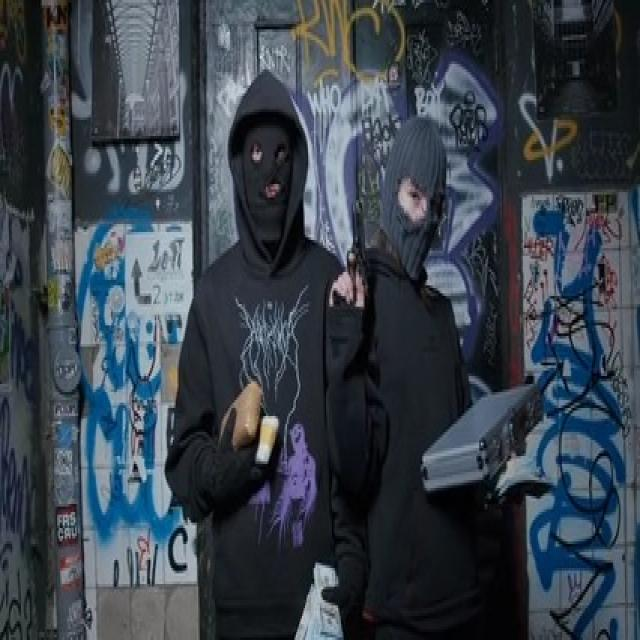Gun_Holder: (324, 196, 380, 336)
Person: (169, 61, 367, 635), (368, 106, 486, 640)
